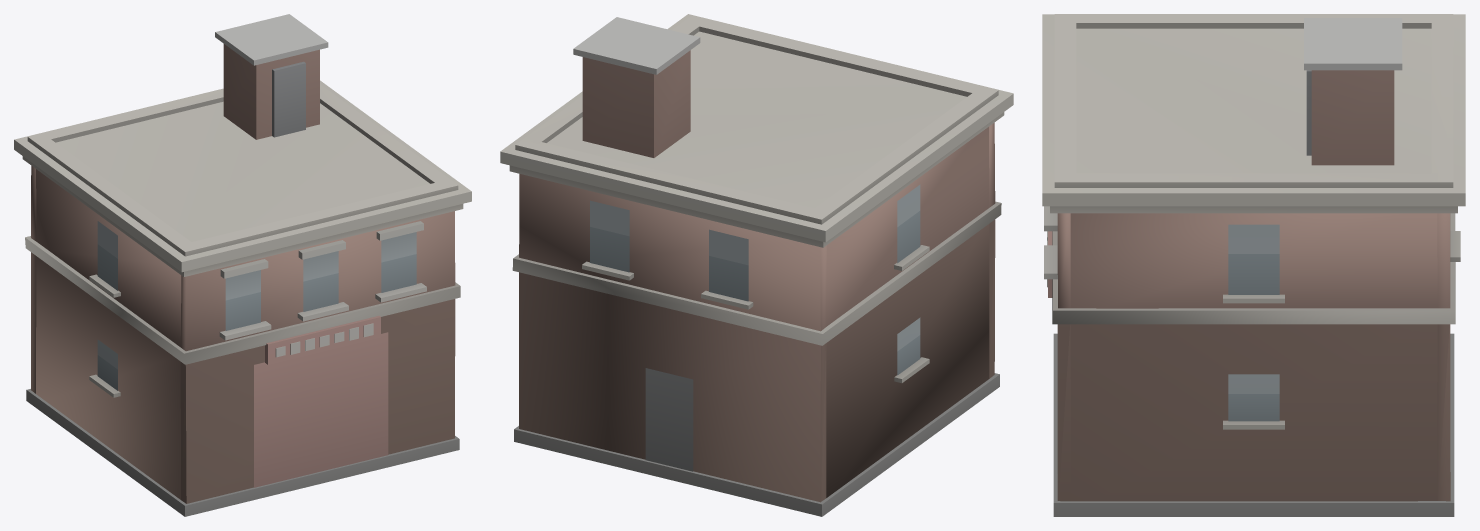
File: firehouse.lod1.glb
3 renders of one model, left to right at view 1: azimuth 30°, elevation 25°; view 2: azimuth 150°, elevation 25°; view 3: azimuth 270°, elevation 25°, orthographic. The views are drawn at different scales.
Bounding box in the file's own units: 8.2 × 9.26 × 8.2.
